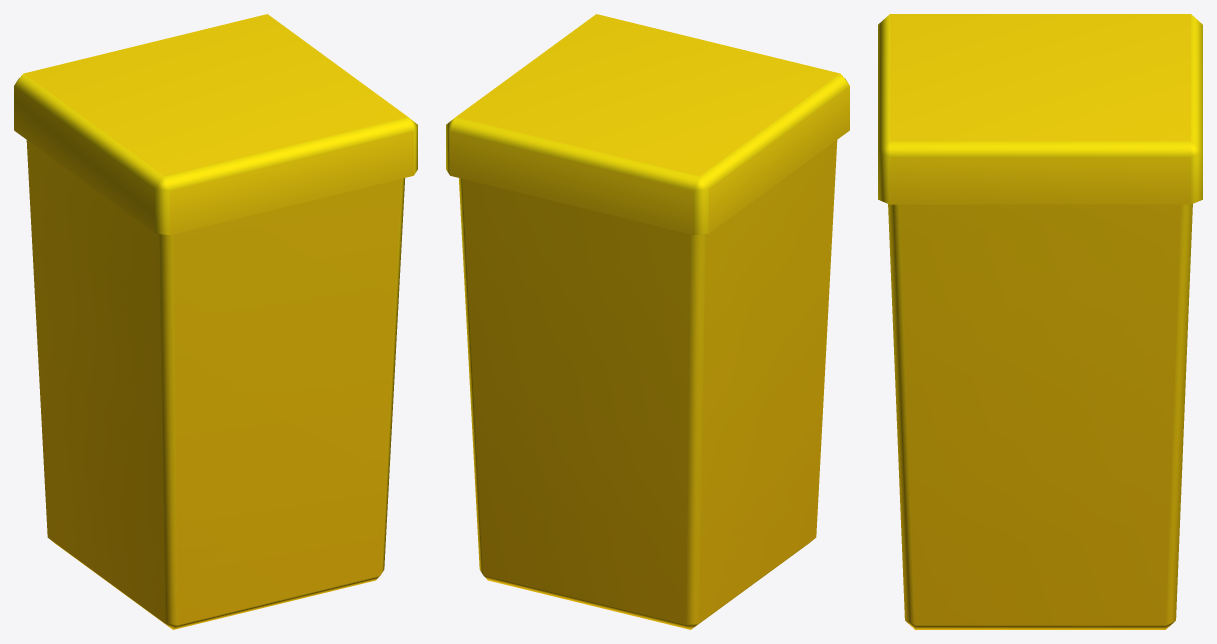
Rendered from giftbox_053.fbx.
The picture shows the model from 3 angles, left to right: view 1: azimuth 30°, elevation 25°; view 2: azimuth 150°, elevation 25°; view 3: azimuth 270°, elevation 25°; orthographic projection. The views are drawn at different scales.
Visible parts, largest first — view 1: giftbox_053; view 2: giftbox_053; view 3: giftbox_053.
Boxes of the visible parts, left/top/right/bottom form: giftbox_053: left=14, top=14, right=417, bottom=629; giftbox_053: left=446, top=14, right=849, bottom=629; giftbox_053: left=878, top=14, right=1202, bottom=629.
Bounding box in the file's own units: 234 × 234 × 397.
